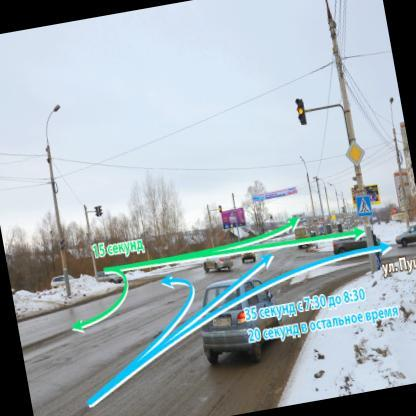road_sign: (346, 140, 364, 167), (356, 196, 373, 217)
traffic light: (294, 98, 307, 126)
